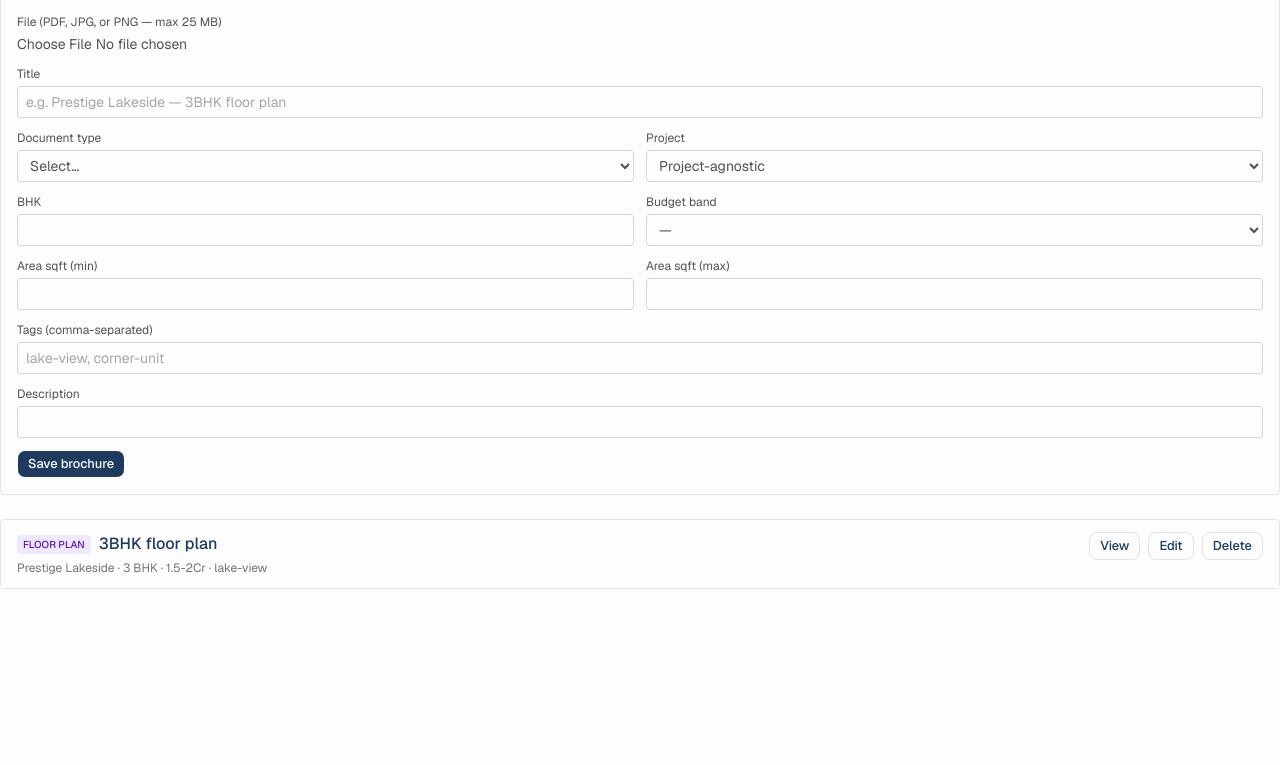
Test case: <BrochureManager> › toggles the inline metadata editor when Edit is clicked
Click the button with test id "brochure-edit-b-1" at (1171, 546), box left=1148, top=532, right=1194, bottom=560
(page scrolled)
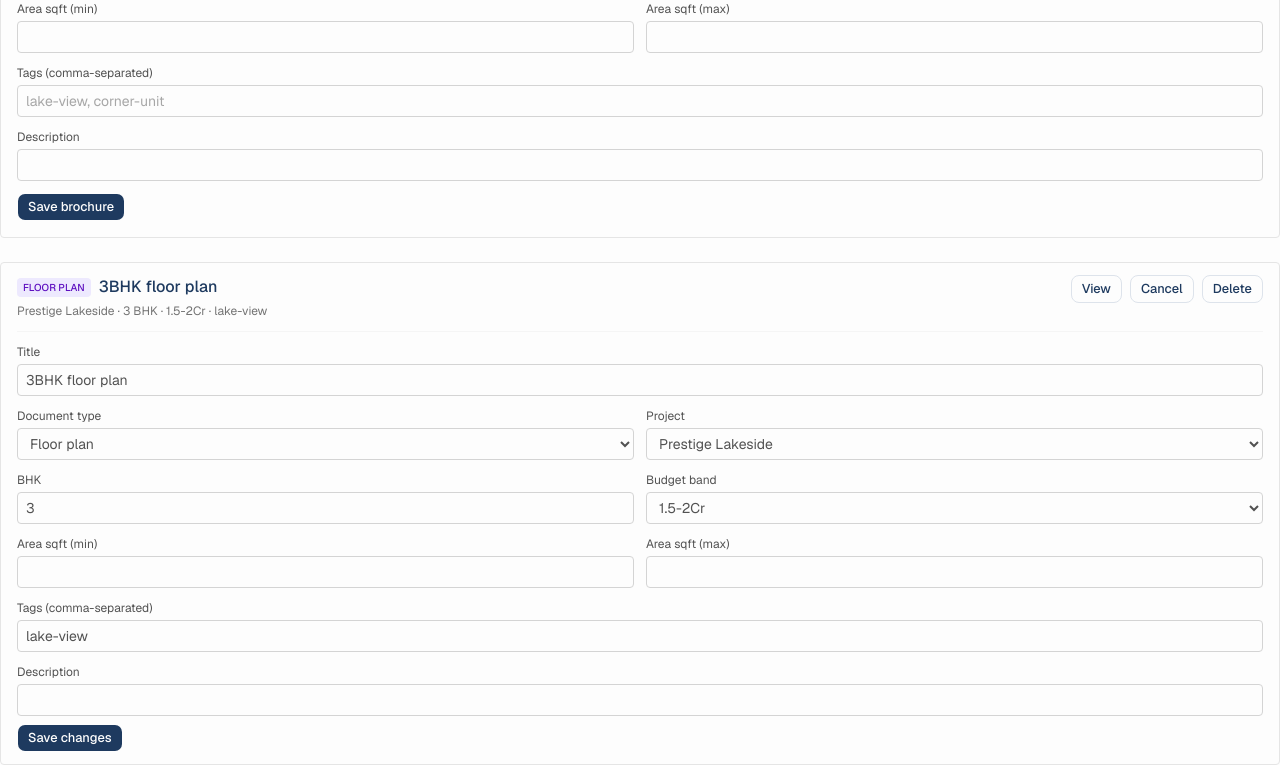
Expected: the field with test id "brochure-edit-b-1-title-input" is shown, left=17, top=364, right=1263, bottom=396
Expected: the button with test id "brochure-edit-save-b-1" is shown, left=17, top=724, right=122, bottom=752
